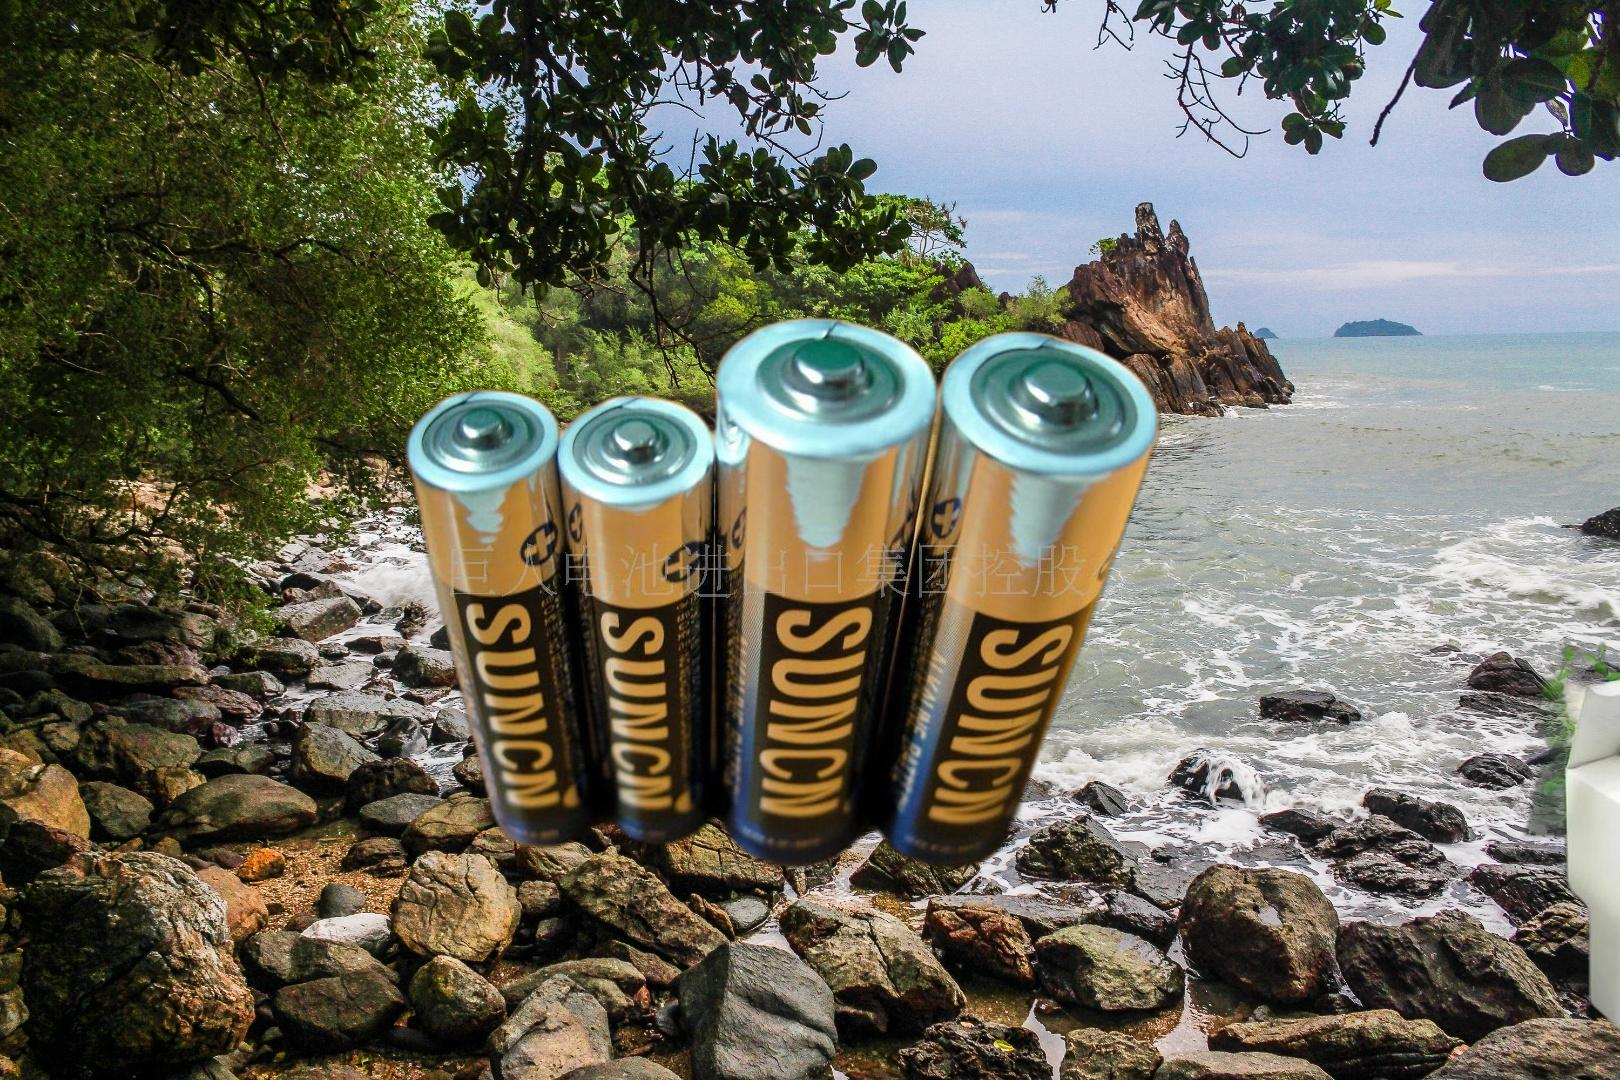battery: (395, 312, 1170, 876)
biological: (898, 217, 1074, 385)
trashbox-cardboard: (1446, 638, 1620, 1037)
